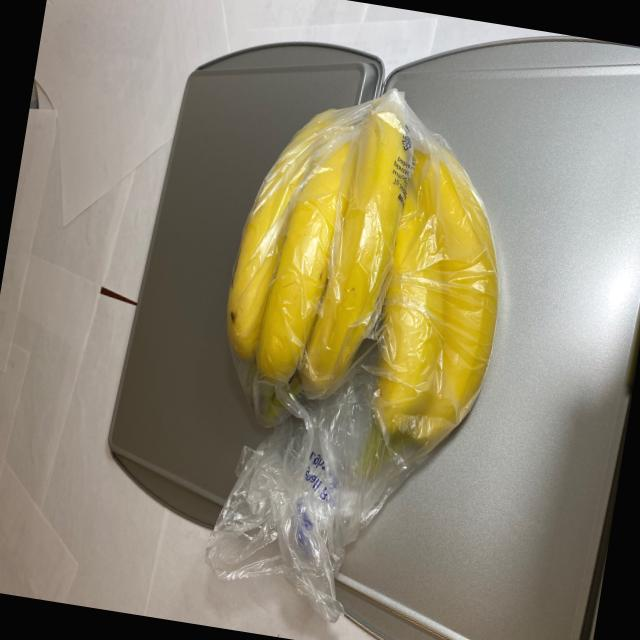banana: (200, 75, 532, 482)
